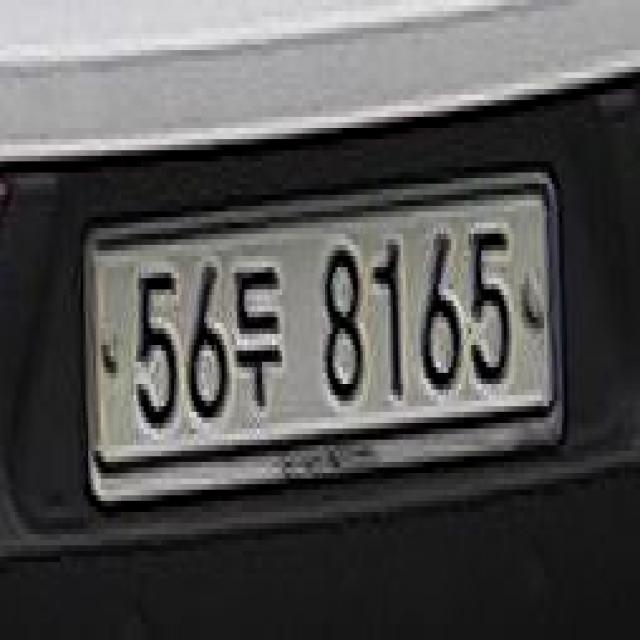illegal_plate: (83, 168, 565, 513)
